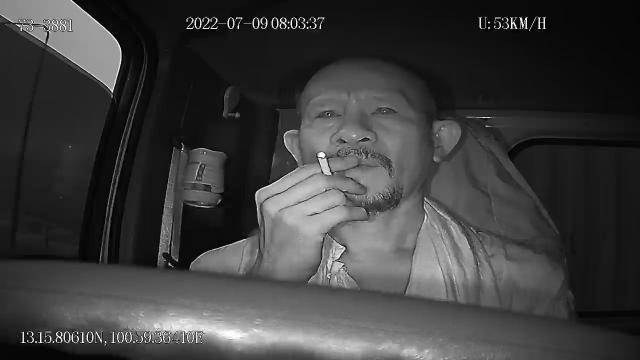SafeDriving: (364, 96, 406, 125), (308, 99, 348, 126)
Smoking: (316, 150, 334, 178)
